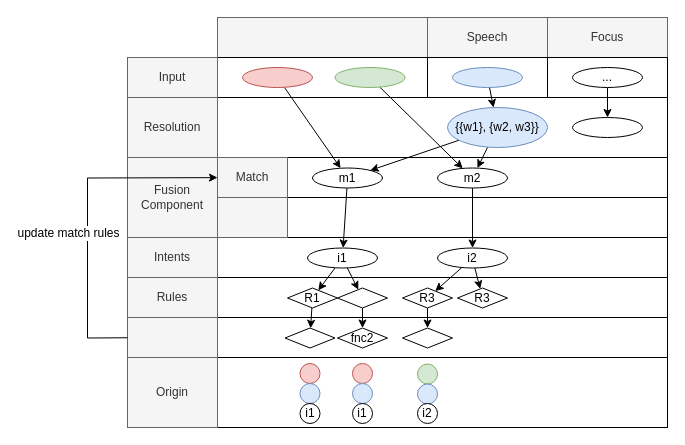
This 685x445 diagram has some shape labels left out. The centre of each missing label's shape, as x and y in pixels:
all_windows: point (487, 77)
candidates: point (607, 127)
Dialog Coordination: point (172, 337)
down: point (277, 77)
fnc1: point (309, 337)
fnc3: point (427, 337)
Gesture: point (322, 37)
IntentBuilder: point (252, 217)
R2: point (362, 297)
up: point (369, 77)
